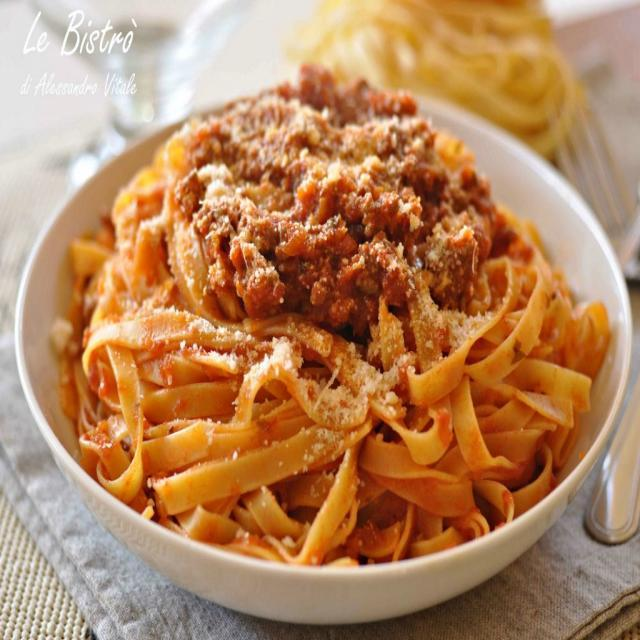Pasta al ragu: (71, 88, 607, 546)
